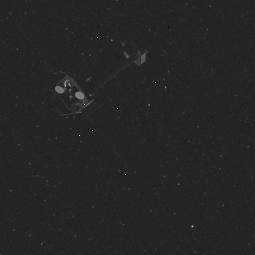xmm_newton: (57, 31, 143, 118)
